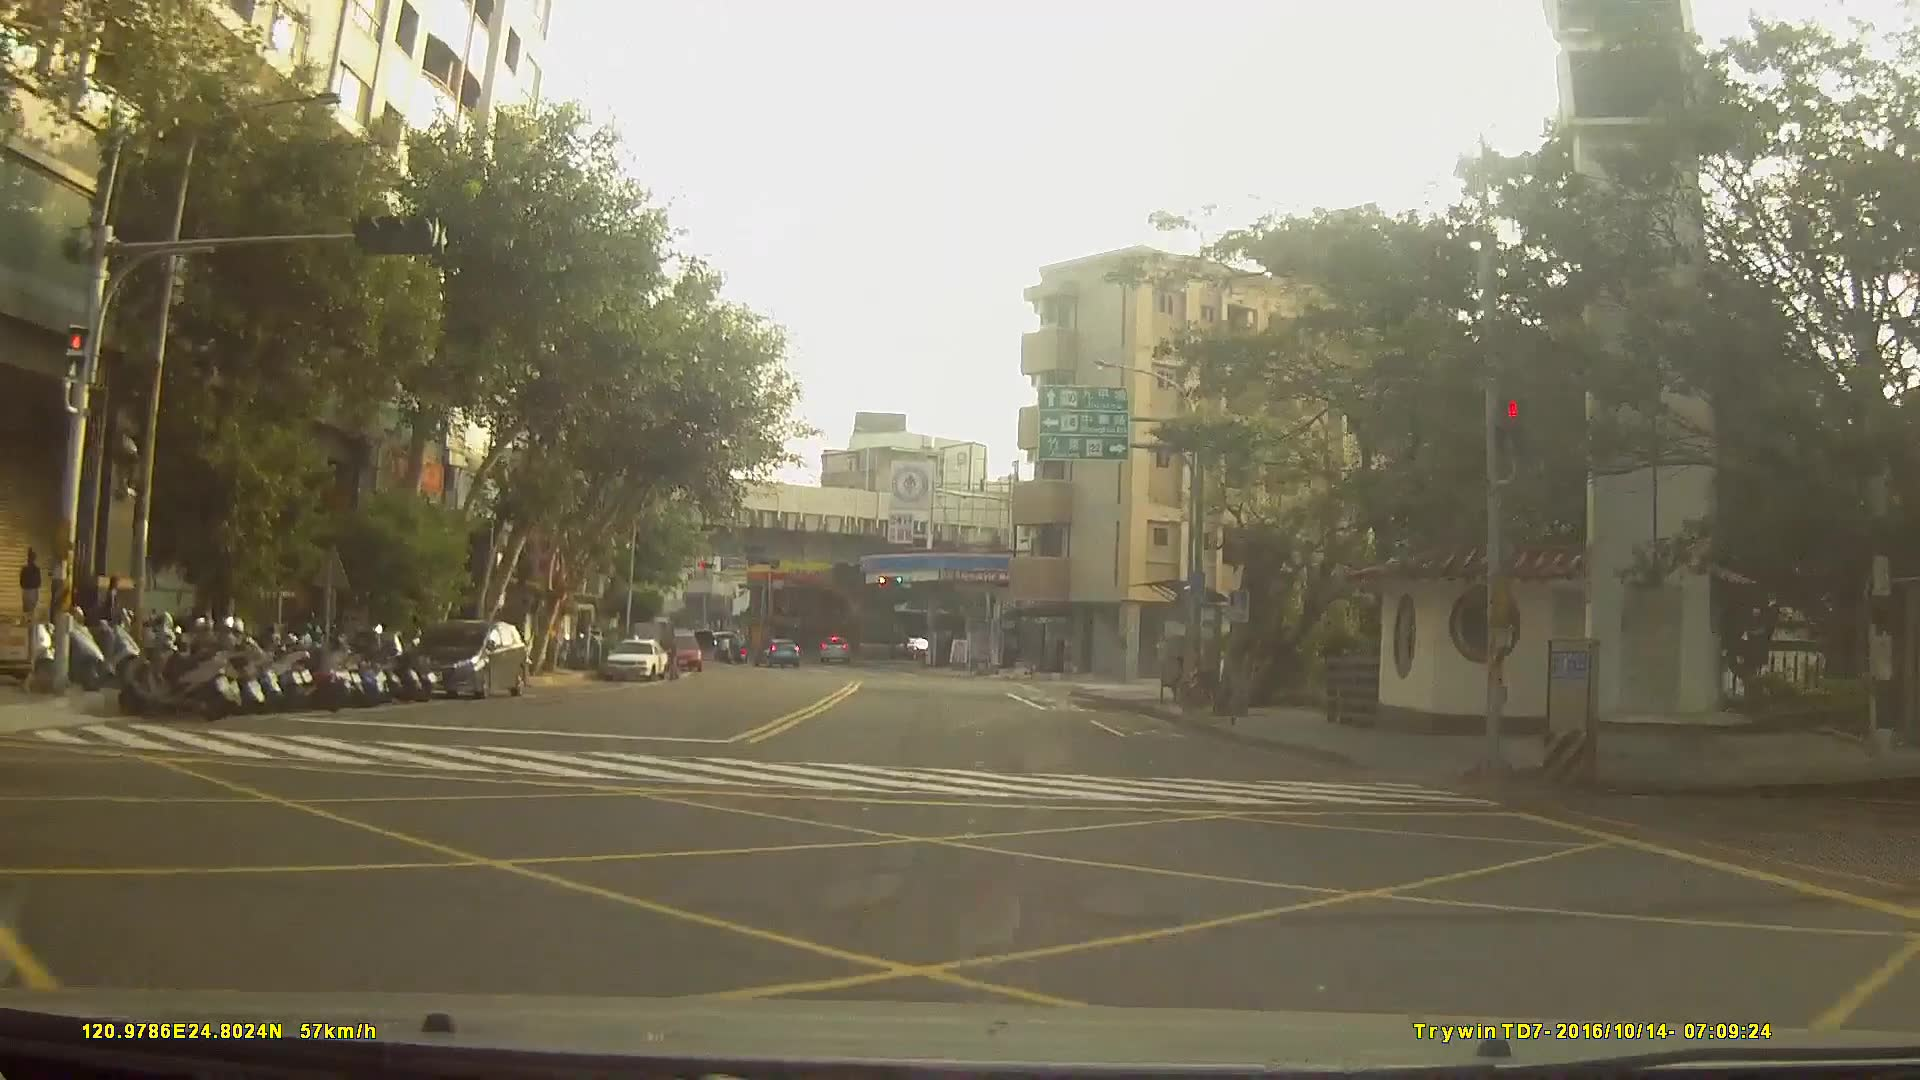pedestrian: (18, 547, 45, 631)
vehicle: (399, 617, 528, 700), (602, 635, 668, 680), (658, 632, 701, 671), (751, 633, 799, 665), (817, 636, 852, 664)
